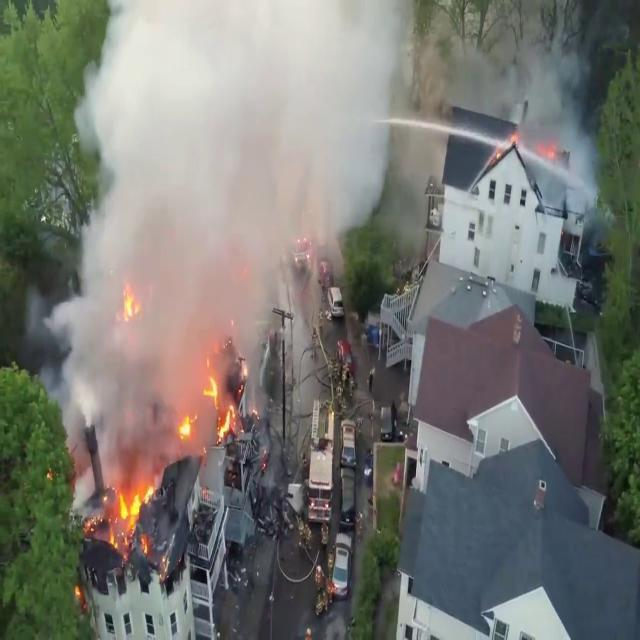Fire: (177, 364, 247, 448), (105, 472, 155, 548)
Smoke: (37, 0, 427, 415), (504, 30, 604, 228)
